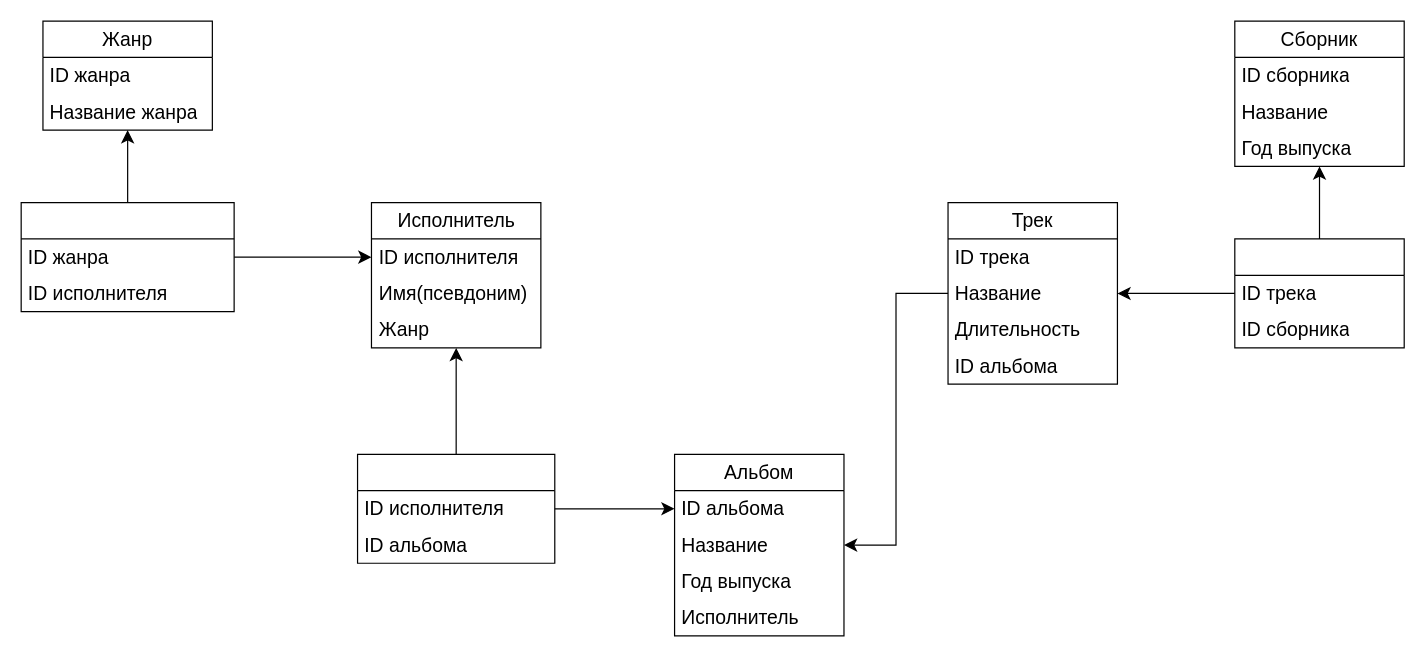
Image size: 1425x657. Some labels were removed from this diagram. Each missing label, with the box of its shape:
Жанры-Исполнитель: (20, 201, 234, 312)
Исполнители-альбом: (356, 453, 555, 563)
Трек-сборник: (1234, 238, 1404, 348)
